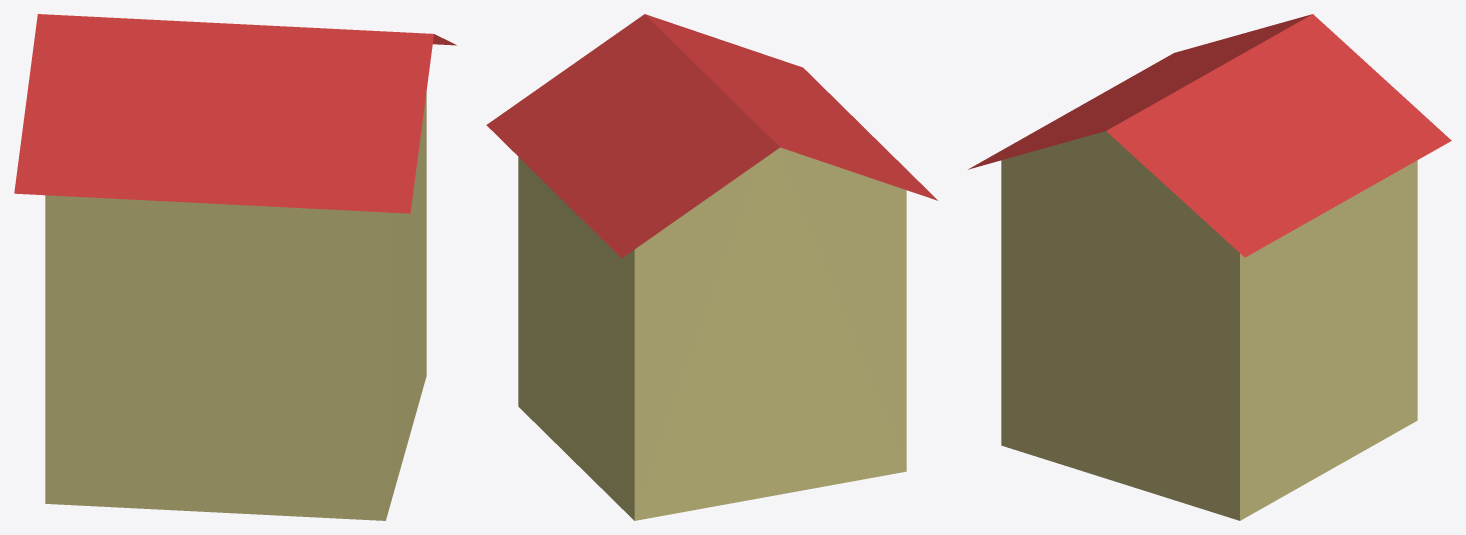
3 renders of one model, left to right at view 1: azimuth 30°, elevation 25°; view 2: azimuth 150°, elevation 25°; view 3: azimuth 270°, elevation 25°, orthographic. The views are drawn at different scales.
Visible parts, largest first — view 1: group_5, group_3, group_4; view 2: group_5, group_3, group_4; view 3: group_5, group_3, group_4.
Part boxes in pixels (<box>): group_5: <box>45,92,426,520</box>; group_3: <box>14,14,433,213</box>; group_4: <box>18,14,456,213</box>; group_5: <box>518,147,906,520</box>; group_3: <box>486,14,937,258</box>; group_4: <box>645,14,935,198</box>; group_5: <box>1001,131,1417,520</box>; group_3: <box>1002,14,1451,257</box>; group_4: <box>968,14,1311,169</box>.
Bounding box in the file's own units: 14.9 × 14.91 × 12.23.
